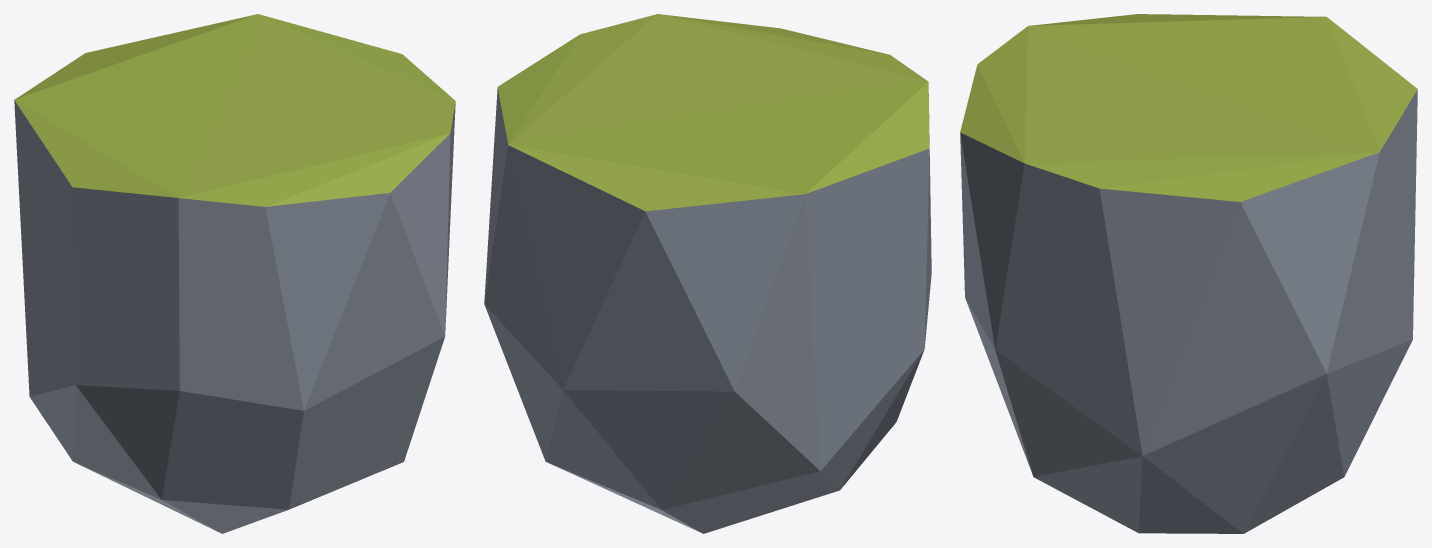
Rendered from Single Platform.fbx.
3 views of the same model, side by side, from view 1: azimuth 30°, elevation 25°; view 2: azimuth 150°, elevation 25°; view 3: azimuth 270°, elevation 25° (orthographic). The views are drawn at different scales.
Visible parts, largest first — view 1: Cube.004; view 2: Cube.004; view 3: Cube.004.
Part boxes in pixels (left/top/right/bottom): Cube.004: left=14, top=14, right=455, bottom=533; Cube.004: left=484, top=14, right=931, bottom=533; Cube.004: left=960, top=14, right=1417, bottom=533.
Bounding box in the file's own units: 180 × 182 × 181.
